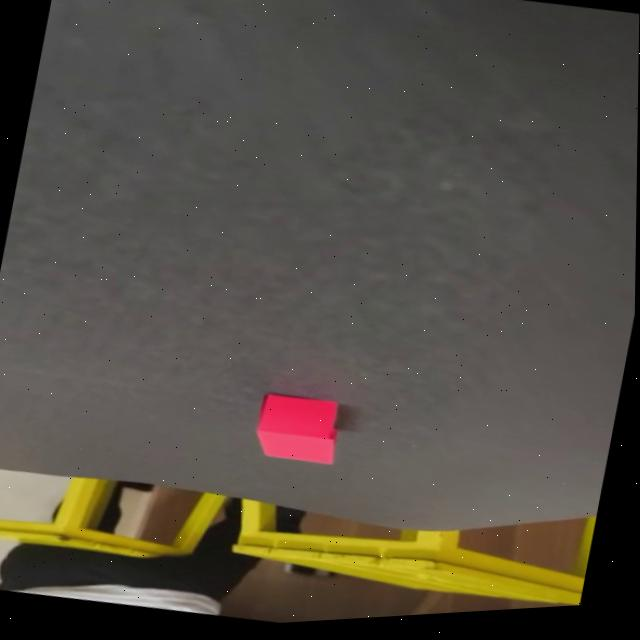red block: (250, 388, 346, 471)
